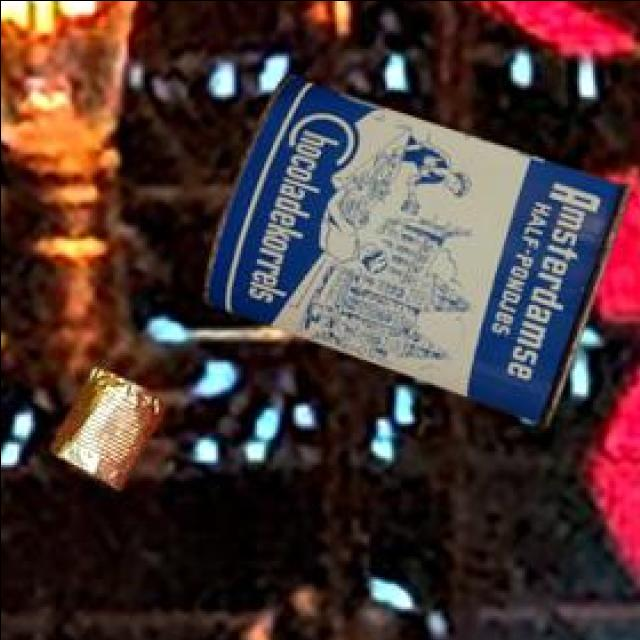logam: (207, 79, 634, 429), (54, 371, 168, 493)
